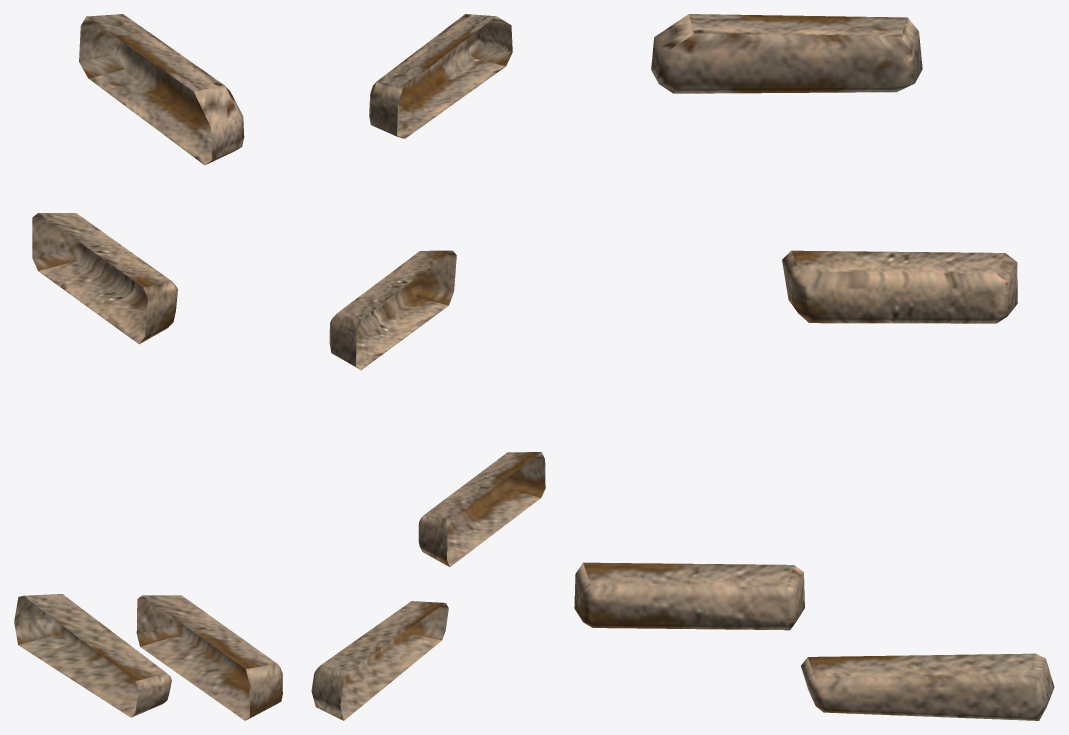
File: lower_city_wall_climb_02.fbx
The picture shows the model from 3 angles, left to right: view 1: azimuth 30°, elevation 25°; view 2: azimuth 150°, elevation 25°; view 3: azimuth 270°, elevation 25°; orthographic projection. The views are drawn at different scales.
Visible parts, largest first — view 1: lower_city_wall_climb_02; view 2: lower_city_wall_climb_02; view 3: lower_city_wall_climb_02.
Boxes of the visible parts, left/top/right/bottom form: lower_city_wall_climb_02: left=14, top=14, right=282, bottom=720; lower_city_wall_climb_02: left=311, top=14, right=545, bottom=720; lower_city_wall_climb_02: left=574, top=14, right=1054, bottom=720.
Bounding box in the file's own units: 0.1207 × 1.92 × 1.2.
